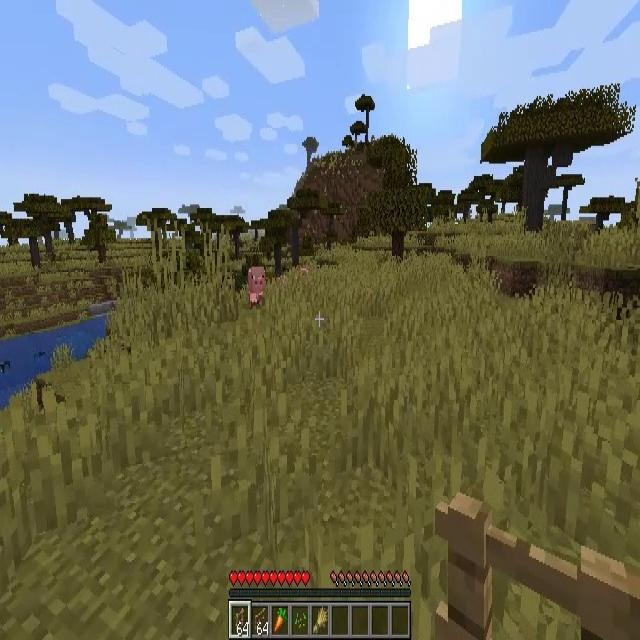pig: (248, 268, 265, 304)
